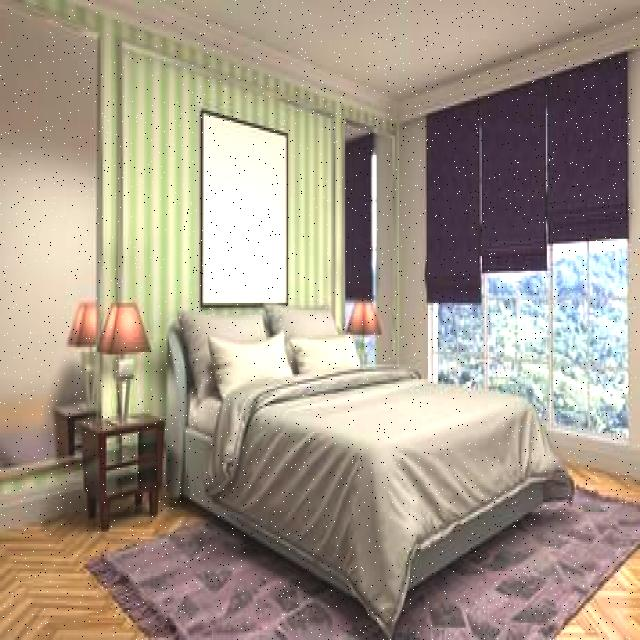bed: (170, 300, 542, 575)
